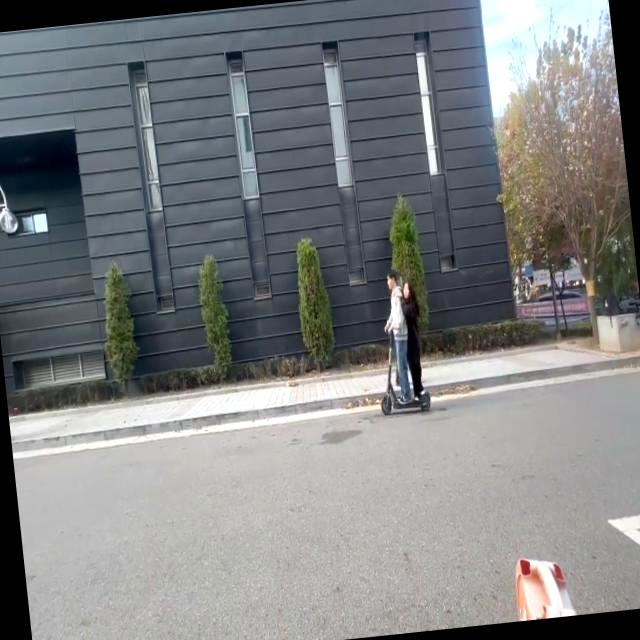bare_head: (397, 281, 415, 299), (385, 270, 397, 292)
human: (379, 268, 412, 403), (402, 277, 426, 402)
kickboard: (377, 390, 433, 414)
